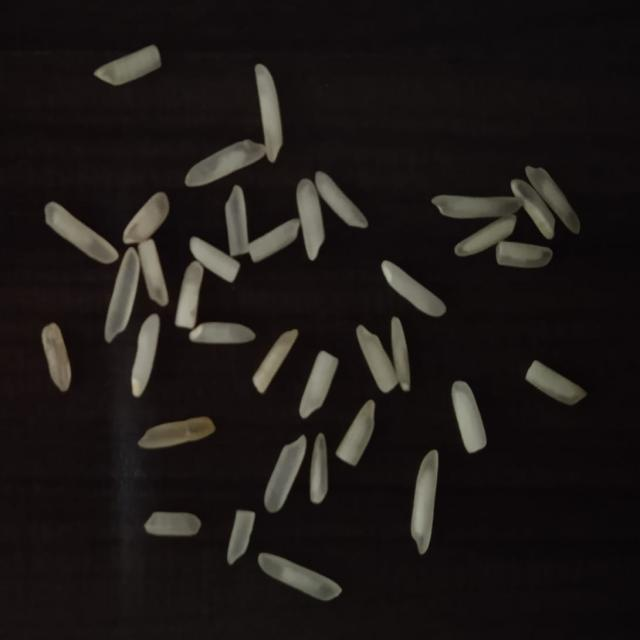Broken: (253, 328, 300, 394), (356, 324, 398, 394), (524, 360, 587, 406), (450, 380, 488, 454), (299, 351, 339, 420), (336, 400, 376, 467), (95, 45, 162, 85), (123, 192, 170, 244), (249, 218, 302, 262), (190, 237, 240, 283), (138, 238, 168, 307), (42, 321, 71, 391), (174, 261, 202, 330), (225, 186, 250, 257), (497, 241, 554, 269), (227, 509, 256, 564), (144, 511, 201, 536), (309, 432, 328, 504)
Full: (45, 202, 119, 264), (258, 551, 342, 601), (183, 137, 264, 185), (526, 167, 582, 235), (382, 259, 446, 316), (105, 247, 141, 344), (265, 433, 308, 513), (316, 172, 369, 229), (410, 450, 438, 556), (255, 61, 283, 162), (510, 178, 555, 240), (455, 218, 519, 258), (138, 416, 216, 448), (131, 313, 160, 398), (297, 178, 326, 261), (430, 195, 521, 219), (391, 317, 412, 393), (189, 322, 257, 343)
